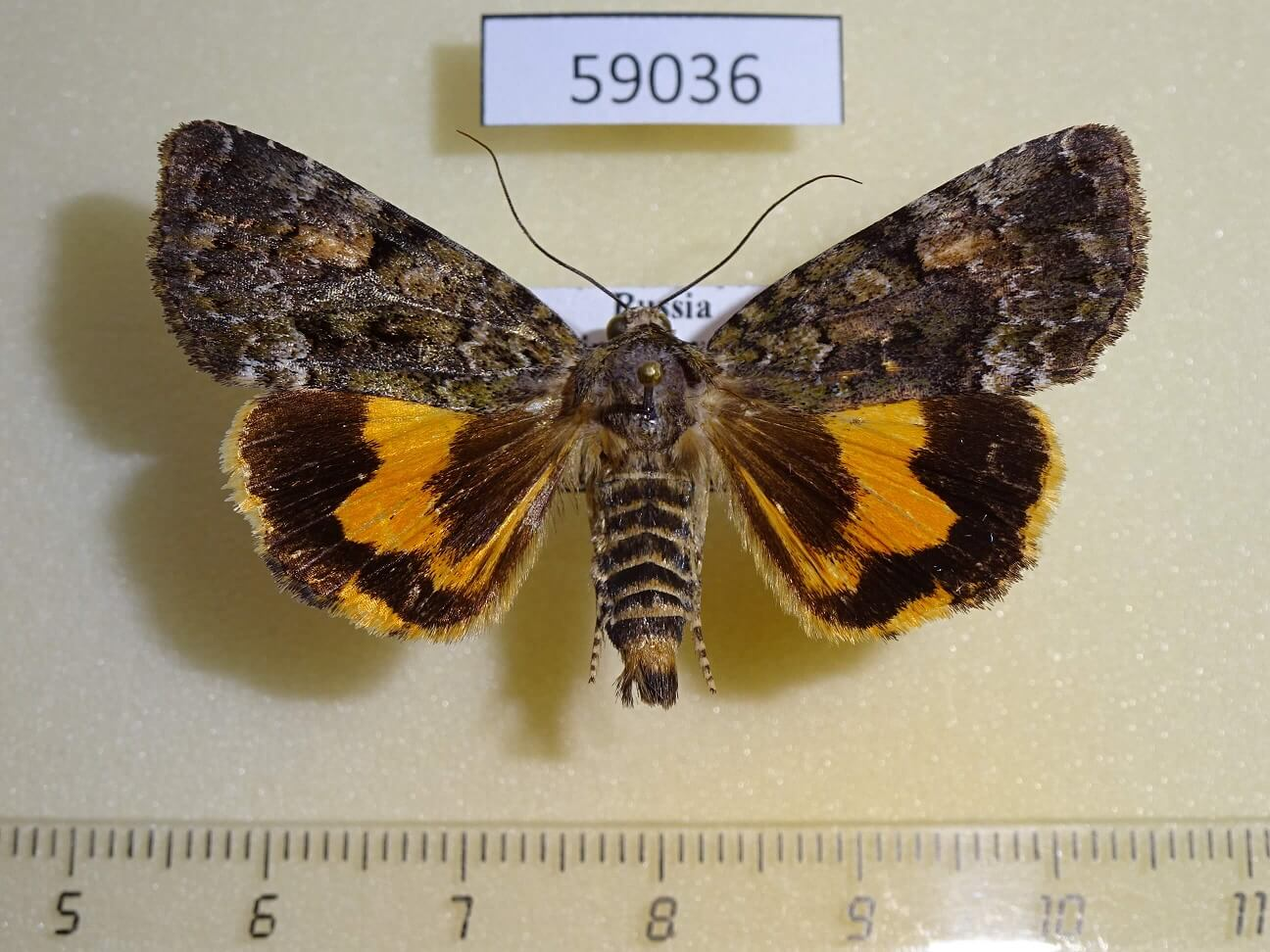Noctuidae: (141, 123, 1153, 710)
